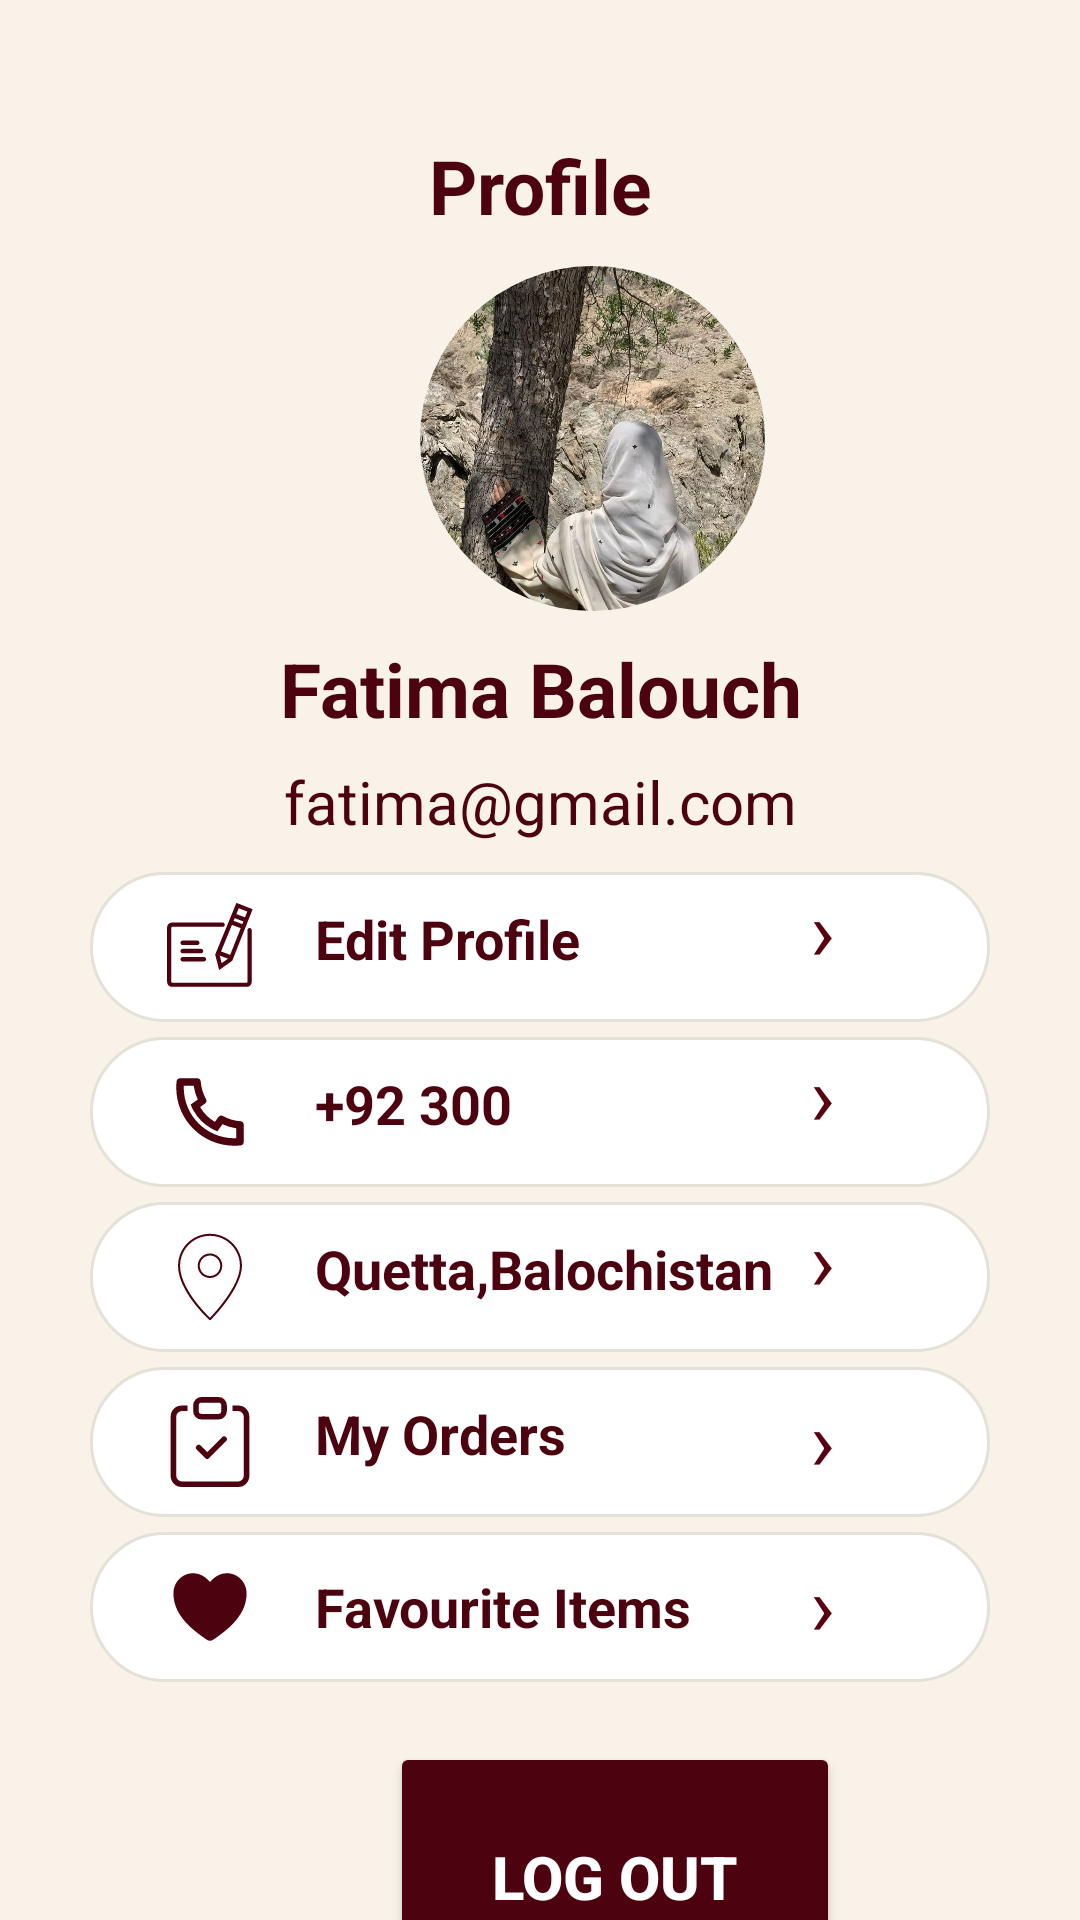

Icons on this 1080px×1920px Android screen, each with its box as (x1, y1, x2, y2):
Location: (178, 1233, 242, 1320)
Phone: (176, 1078, 244, 1146)
